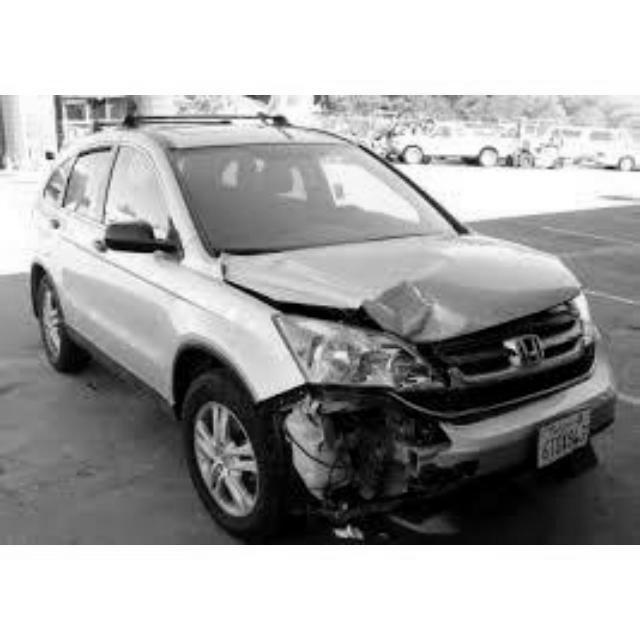bonnet-dent: (250, 256, 542, 344)
front-bumper-dent: (288, 397, 520, 507)
